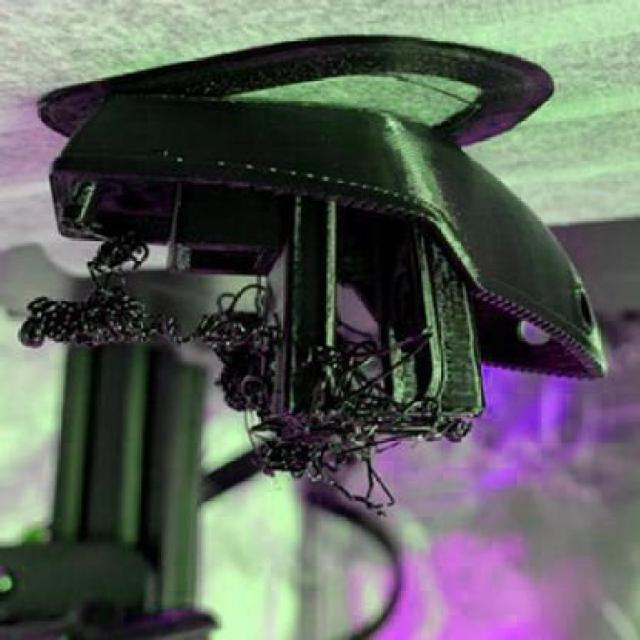Spaghetti: (182, 285, 470, 524), (15, 238, 182, 356)
